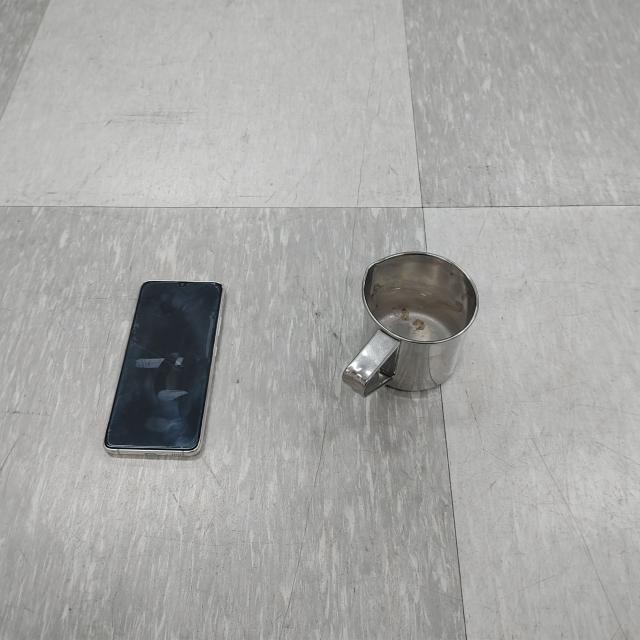cup: (341, 249, 481, 406)
phone: (102, 277, 224, 461)
